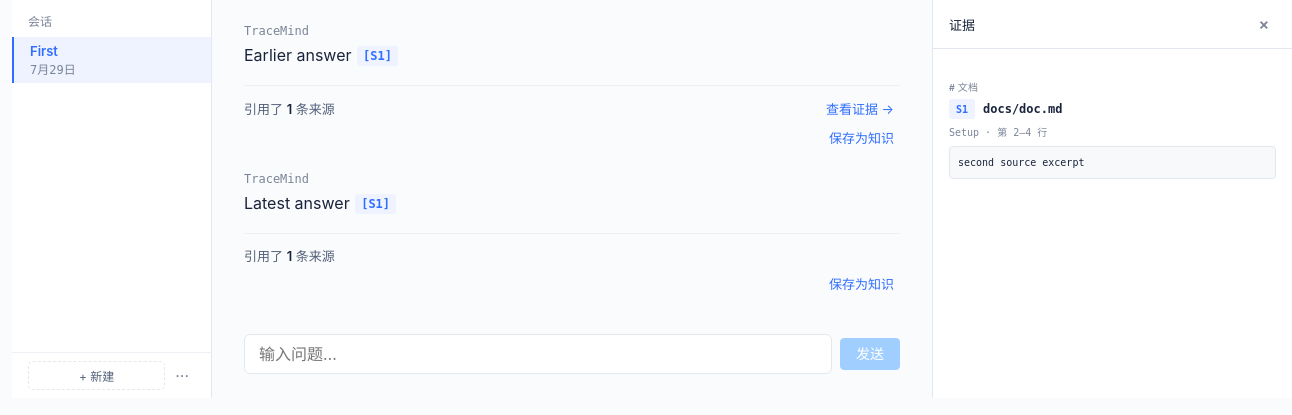
Test: ConversationView › binds a citation to the source of its own assistant message
This screenshot has width=1292, height=415.
Expected: the element with test id "evidence-source-a2-S1" shows "second source excerpt", [958,157,1084,168]
Click the button with class "cite-btn" next to "Earlier answer" at point(377, 56), box [357,46,398,66]
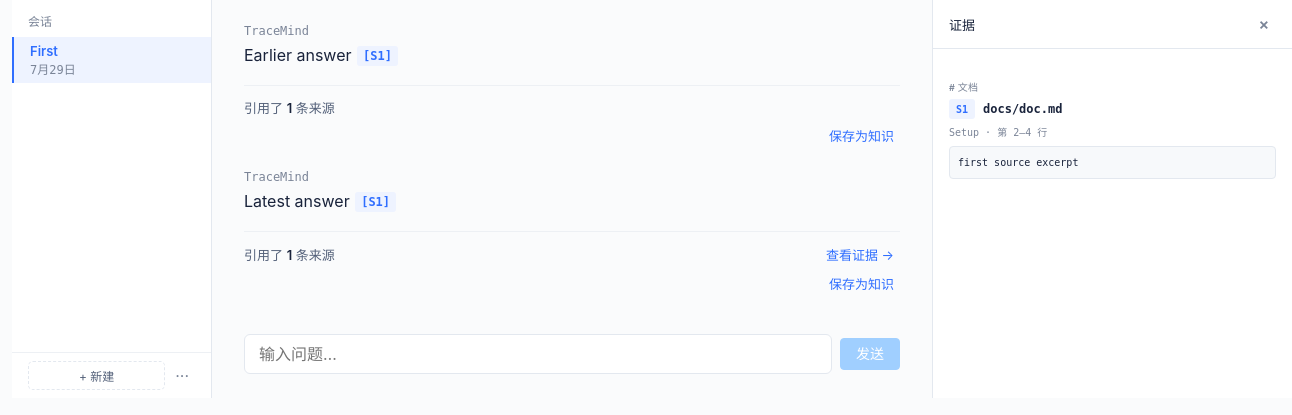
Now the element with test id "evidence-source-a1-S1" shows "first source excerpt", box [958,157,1078,168]
